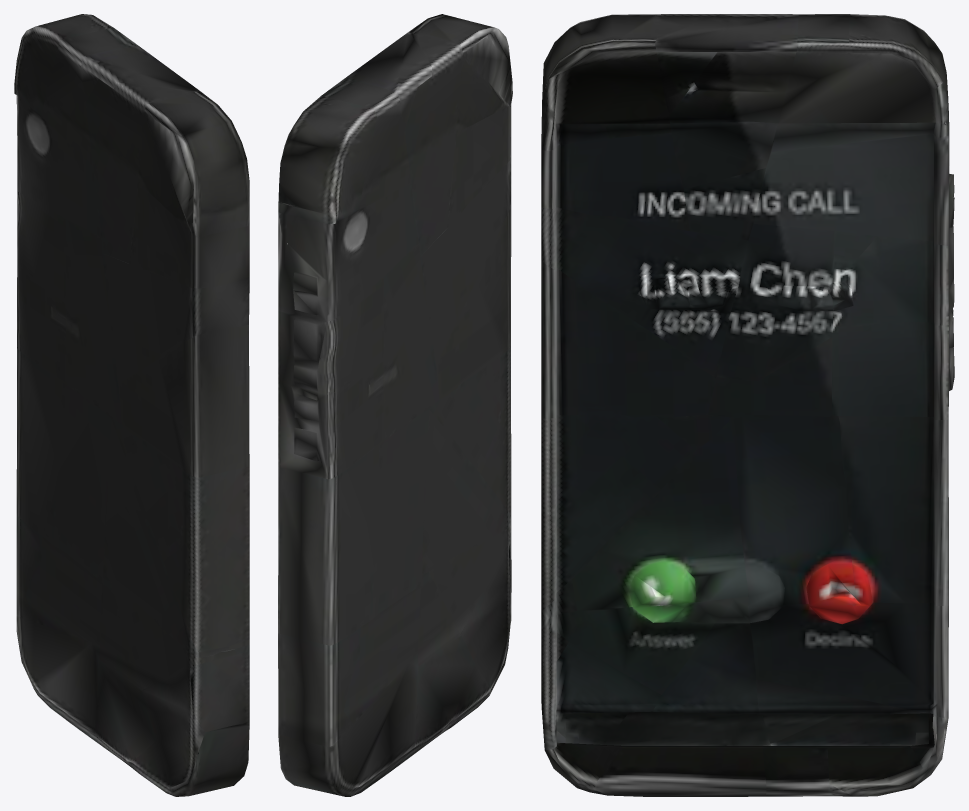
File: phone.glb
3 views of the same model, side by side, from view 1: azimuth 30°, elevation 25°; view 2: azimuth 150°, elevation 25°; view 3: azimuth 270°, elevation 25° (orthographic). The views are drawn at different scales.
Visible parts, largest first — view 1: tripo_node_8210823e-539c-4de4-860e-1c864784b05c; view 2: tripo_node_8210823e-539c-4de4-860e-1c864784b05c; view 3: tripo_node_8210823e-539c-4de4-860e-1c864784b05c.
Boxes of the visible parts, box(x1,y1,x2,y2) form: tripo_node_8210823e-539c-4de4-860e-1c864784b05c: box(14, 14, 249, 796); tripo_node_8210823e-539c-4de4-860e-1c864784b05c: box(278, 14, 512, 796); tripo_node_8210823e-539c-4de4-860e-1c864784b05c: box(541, 14, 954, 796).
Size of the model in its own units: 0.0895 by 1 by 0.4963.
Materials: 1 (1 with a texture image).
